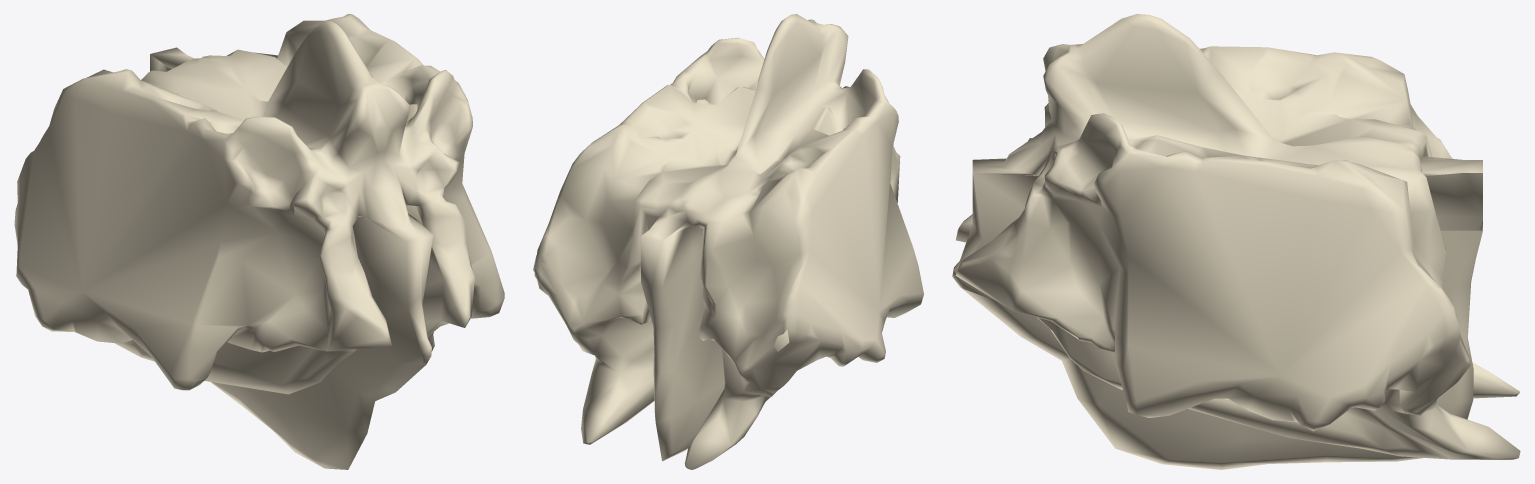
The model's file is esqueleto-ethmoid-bone.glb.
3 renders of one model, left to right at view 1: azimuth 30°, elevation 25°; view 2: azimuth 150°, elevation 25°; view 3: azimuth 270°, elevation 25°, orthographic. The views are drawn at different scales.
Parts seen in each view (by area): view 1: Ethmoid bone; view 2: Ethmoid bone; view 3: Ethmoid bone.
Boxes of the visible parts, x1,y1,x2,y2 form: Ethmoid bone: (14,14,504,469); Ethmoid bone: (533,14,923,469); Ethmoid bone: (952,14,1520,469).
Bounding box in the file's own units: 0.0375 × 0.0394 × 0.0445.
